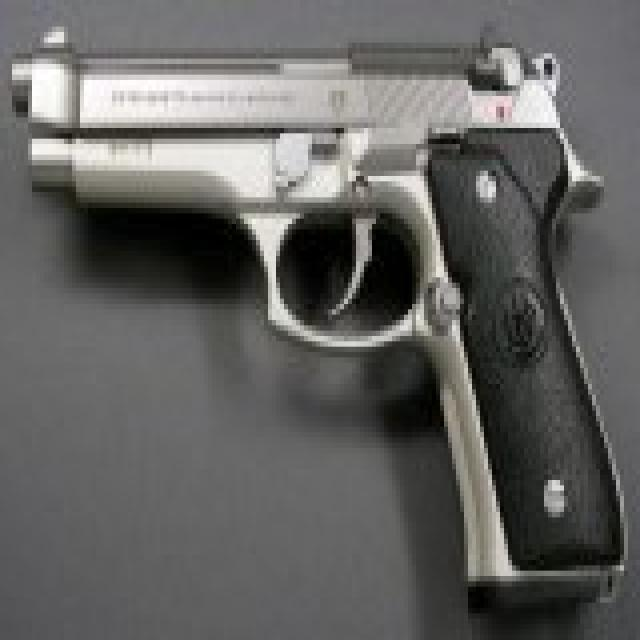Gun: (4, 17, 620, 583)
